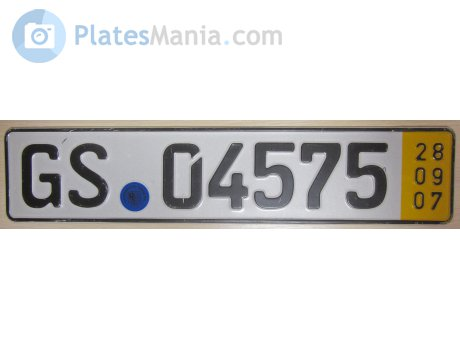License Plates: (7, 131, 392, 213)
